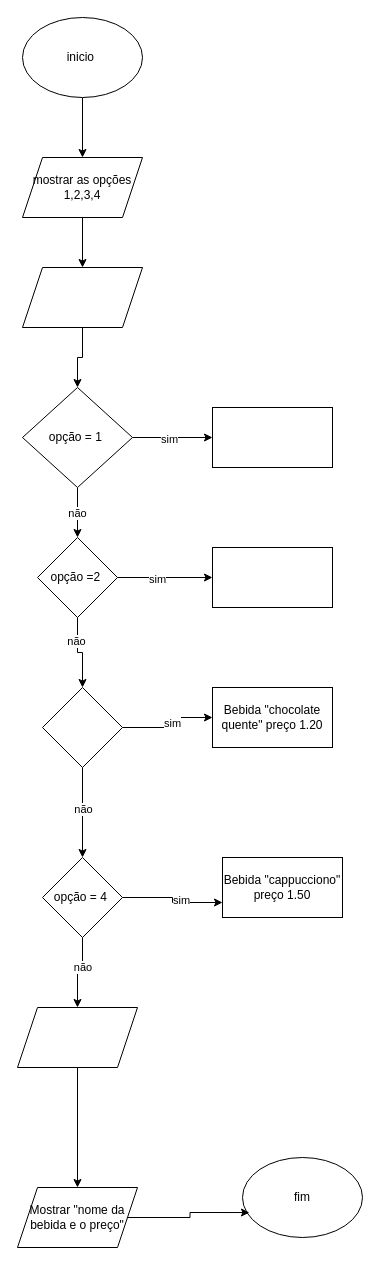
Some shapes in this 380 by 1265 pixel diagram are drawn without their labels. Here are the shapes that lost their labels. From the top down, the centre of each, then its label:
point 82,297: Ler "opção"
point 272,437: Bebida = "café", preço 0.80
point 272,577: Bebida = "chá", preço 1.00
point 82,727: opção = 3
point 77,1037: Escrever "opção inválida"
